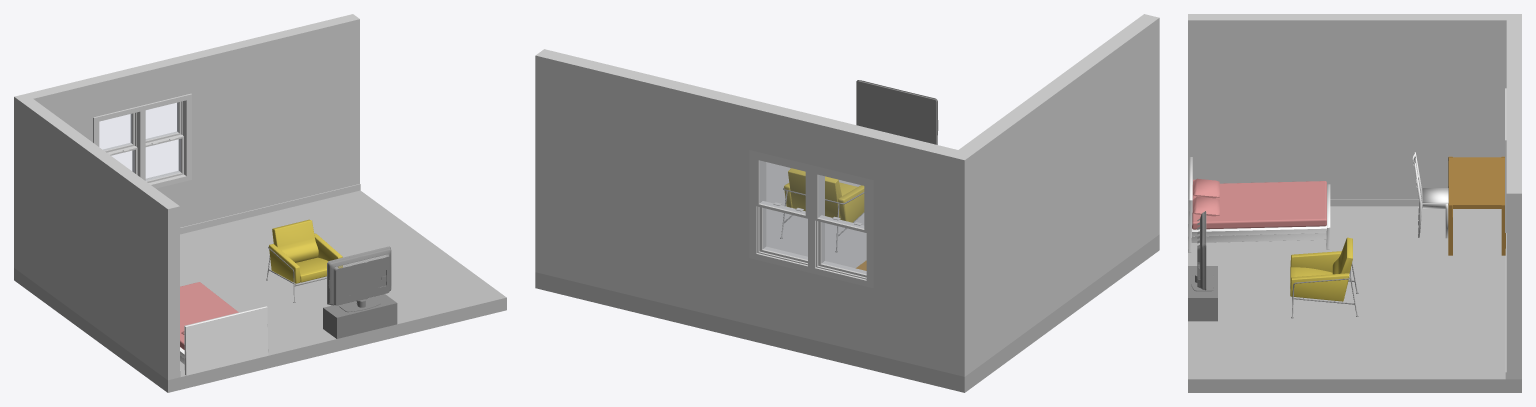
The model's file is L14_W18_furniture3_privacy1.glb.
The picture shows the model from 3 angles, left to right: view 1: azimuth 30°, elevation 25°; view 2: azimuth 150°, elevation 25°; view 3: azimuth 270°, elevation 25°; orthographic projection. The views are drawn at different scales.
Size of the model in its own units: 224 by 116 by 176.
